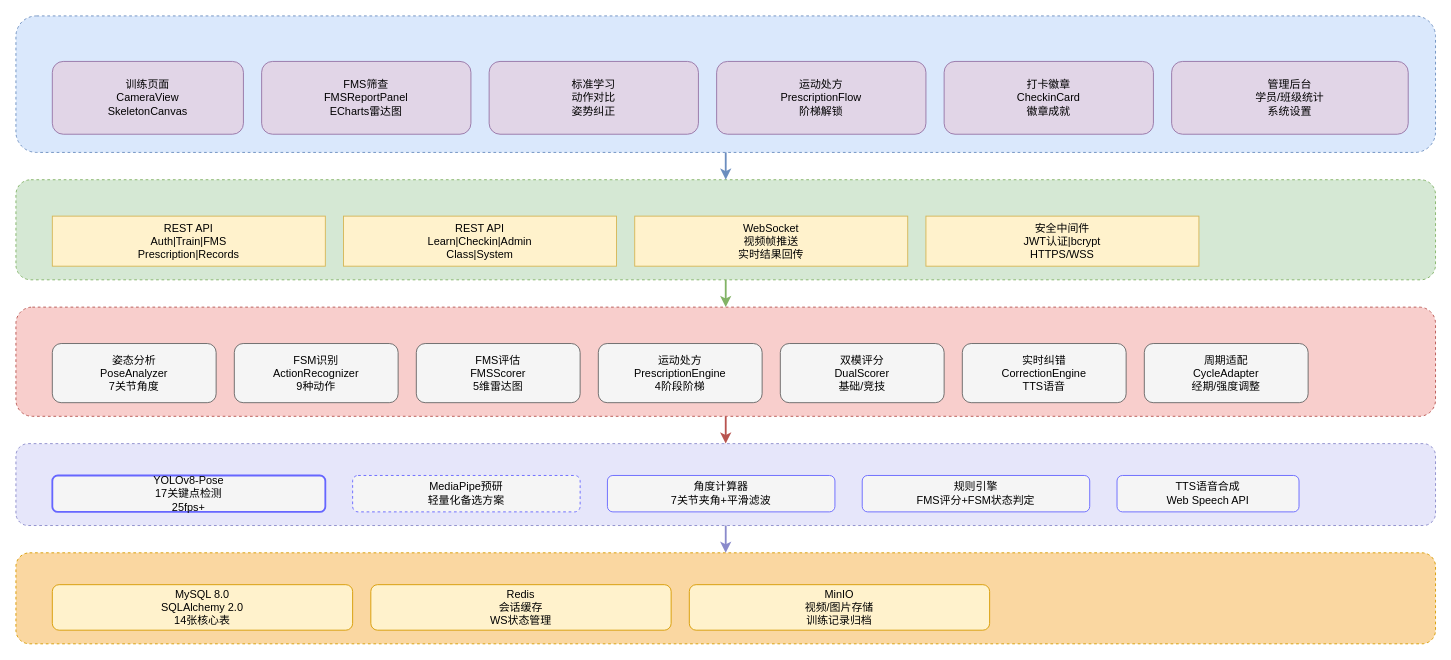
Image size: 1451x660. Some labels were removed from this diagram. The shapes that lost their labels are listed below. From the top down, each one's box as (x1, y1, x2, y2) in pixels, then its label:
(15, 15, 1436, 152): 前端层 React+TS+Vite+AntDesign
(15, 179, 1436, 280): API网关层 FastAPI+Nginx+WebSocket
(15, 306, 1436, 416): 业务引擎层 Python
(15, 443, 1436, 526): AI模型层
(15, 552, 1436, 644): 数据持久层
